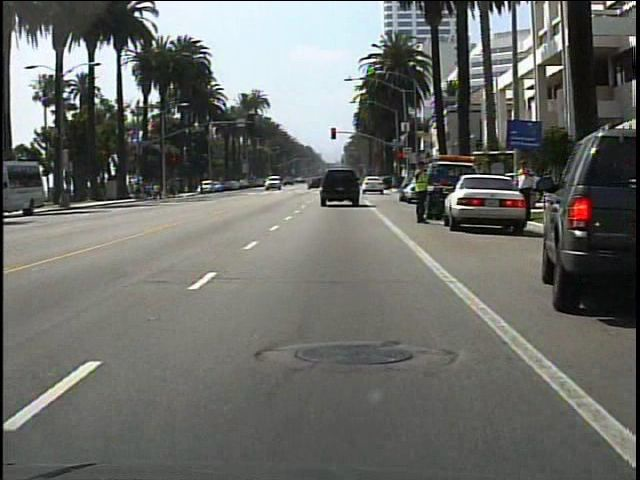person: (513, 157, 539, 233), (409, 162, 433, 226)
